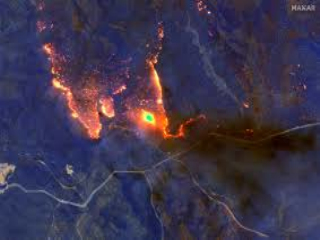fire: (44, 46, 180, 140)
